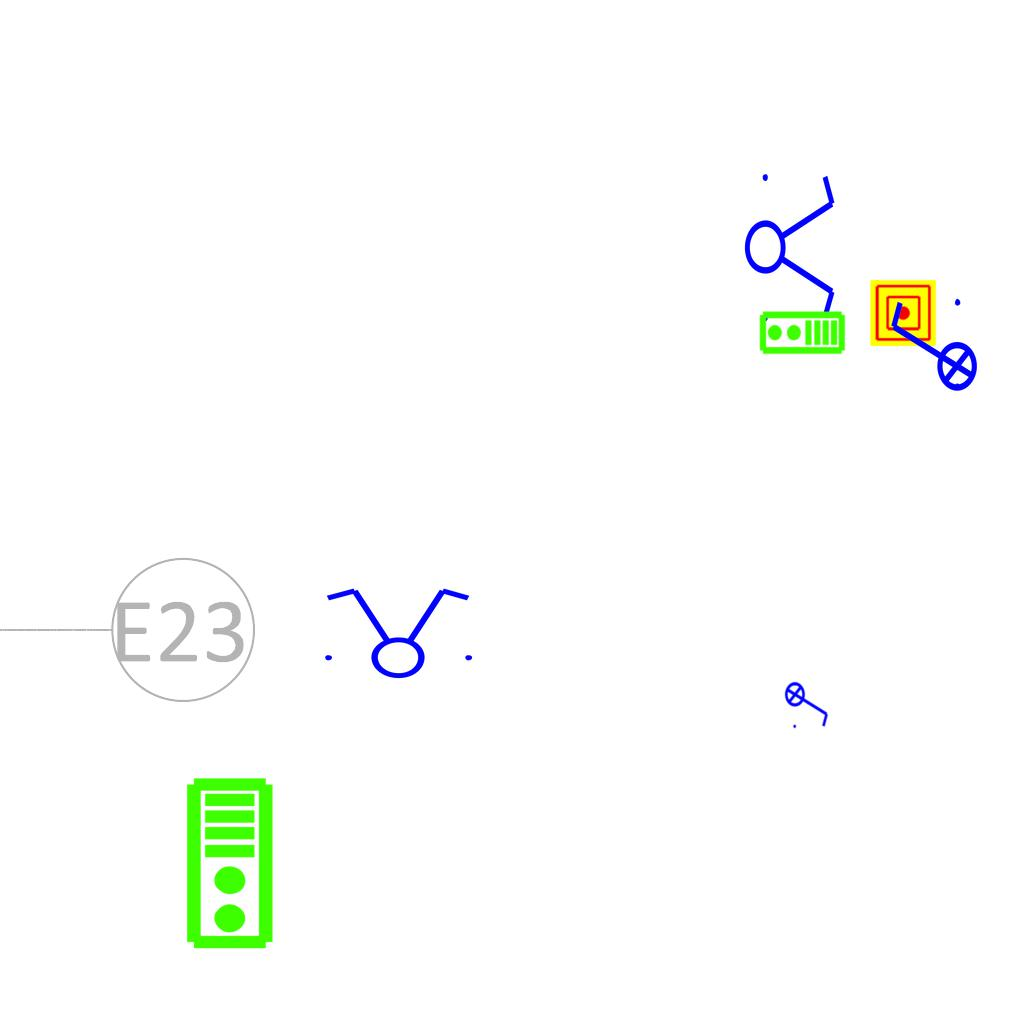Ausschalter_beleuchtet: (883, 293, 979, 405), (784, 675, 832, 731)
Gegensprechanlage_mit_Video: (184, 776, 279, 952), (758, 310, 846, 357)
NAM-Nichtautomatischer_Melder: (870, 280, 936, 346)
Serienschalter: (743, 162, 839, 330), (313, 584, 481, 680)
